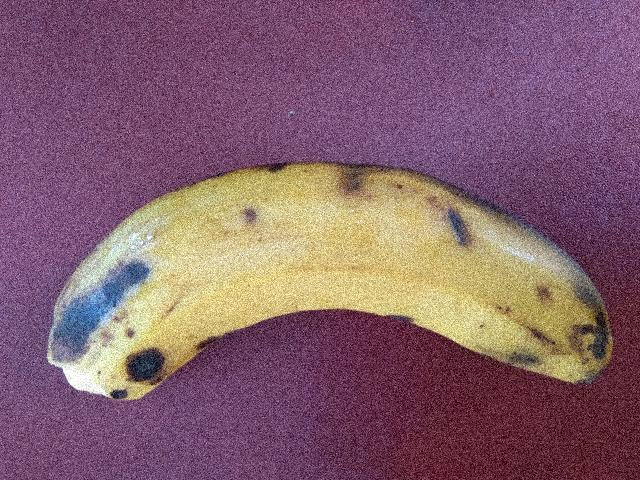ripe: (42, 141, 631, 460)
